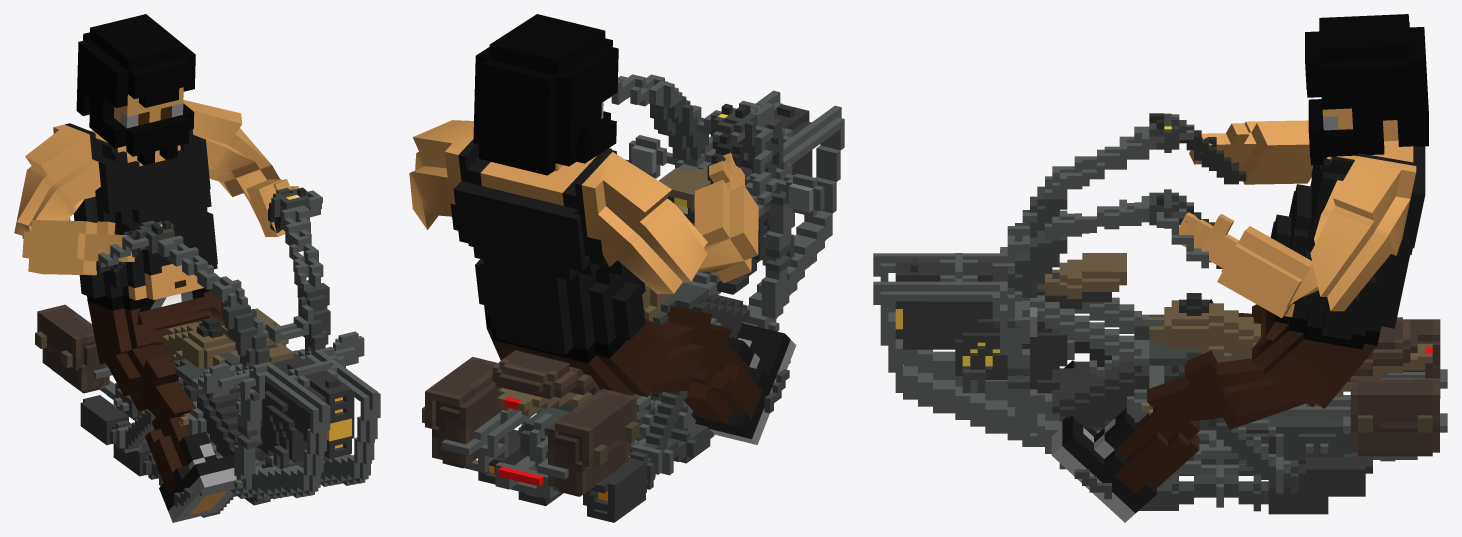
File: OnChopper.obj
The picture shows the model from 3 angles, left to right: view 1: azimuth 30°, elevation 25°; view 2: azimuth 150°, elevation 25°; view 3: azimuth 270°, elevation 25°; orthographic projection. The views are drawn at different scales.
Size of the model in its own units: 4.86 by 6.84 by 7.7.
Materials: 2 (2 with a texture image).
